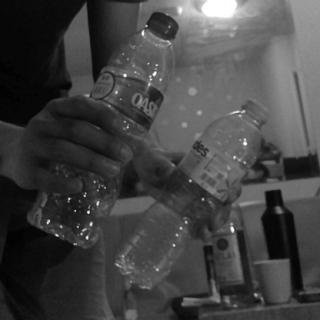plastic_bottles: (28, 9, 180, 241), (120, 90, 269, 286)
